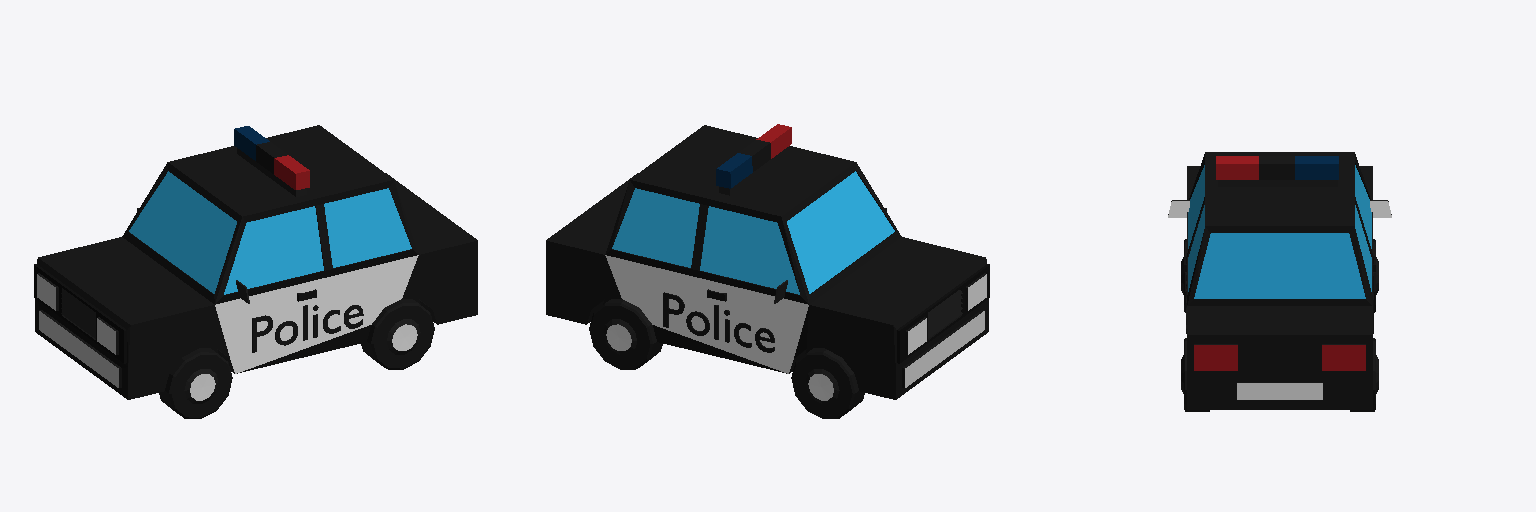
3 renders of one model, left to right at view 1: azimuth 30°, elevation 25°; view 2: azimuth 150°, elevation 25°; view 3: azimuth 270°, elevation 25°, orthographic.
Parts seen in each view (by area): view 1: Police_Plane.008; view 2: Police_Plane.008; view 3: Police_Plane.008.
Boxes of the visible parts, box(x1,y1,x2,y2) form: Police_Plane.008: box(34, 125, 477, 418); Police_Plane.008: box(546, 124, 989, 418); Police_Plane.008: box(1168, 152, 1391, 411).
Bounding box in the file's own units: 44.41 × 24.51 × 24.02.
1 materials, 1 textured.